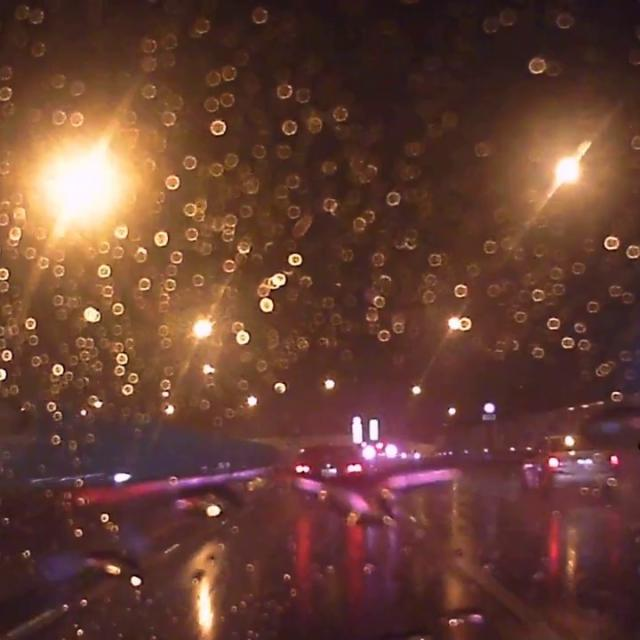Car: (518, 431, 619, 494), (290, 439, 365, 500)
